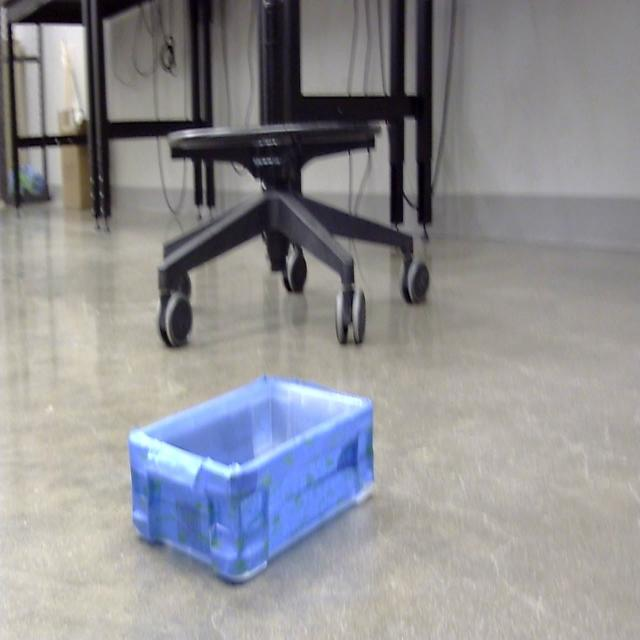bucket: (127, 376, 376, 587)
